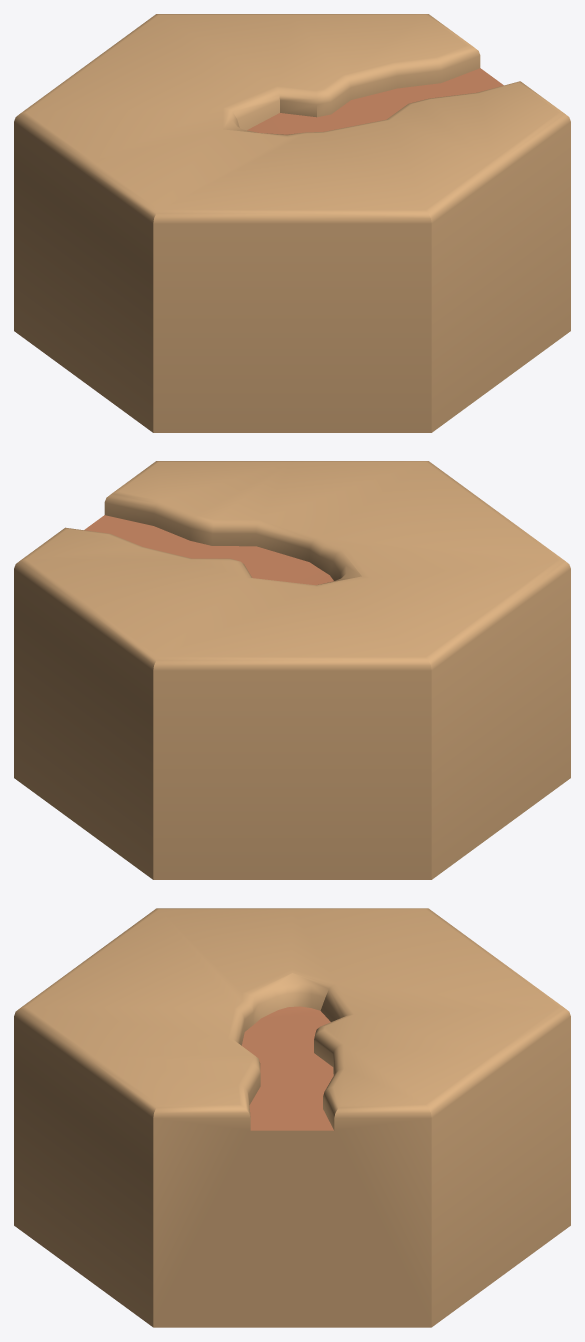
File: kaykit-hex-sand-roada.glb
3 renders of one model, top to bottom at view 1: azimuth 30°, elevation 25°; view 2: azimuth 150°, elevation 25°; view 3: azimuth 270°, elevation 25°, orthographic.
Parts seen in each view (by area): view 1: hex_sand_roadA; view 2: hex_sand_roadA; view 3: hex_sand_roadA.
Part boxes in pixels (<box>): hex_sand_roadA: <box>14,14,570,432</box>; hex_sand_roadA: <box>14,461,570,879</box>; hex_sand_roadA: <box>14,908,570,1327</box>.
Bounding box in the file's own units: 2 × 1 × 2.31.
